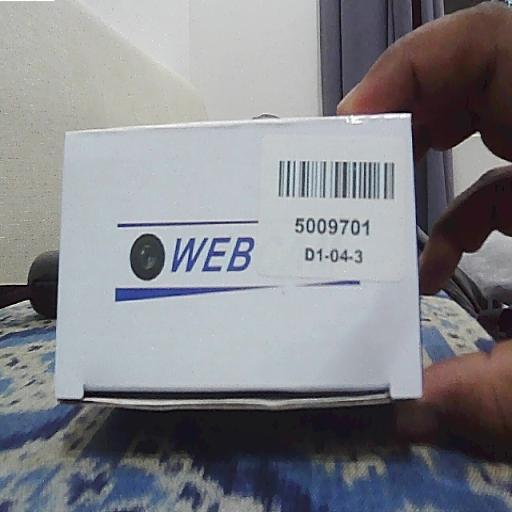webcam_box: (58, 113, 424, 404)
